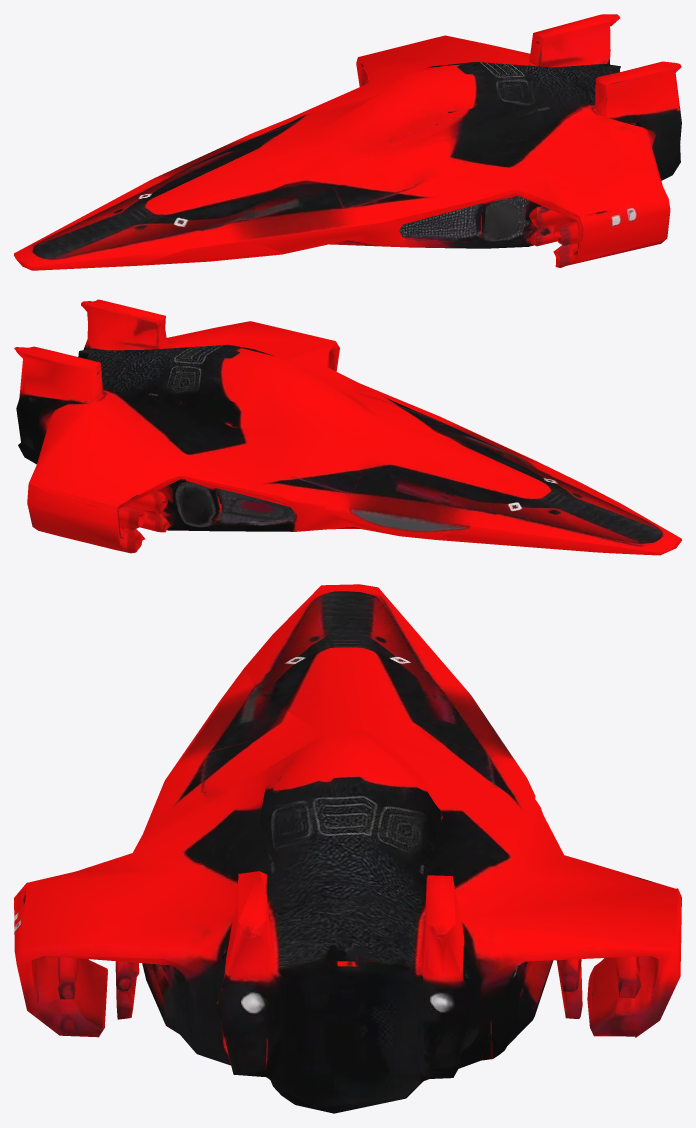
Rendered from ship12.glb.
3 views of the same model, one above another, from view 1: azimuth 30°, elevation 25°; view 2: azimuth 150°, elevation 25°; view 3: azimuth 270°, elevation 25° (orthographic). The views are drawn at different scales.
Parts seen in each view (by area): view 1: Mesh0; view 2: Mesh0; view 3: Mesh0.
Part boxes in pixels (x1,y1,x2,y2): Mesh0: (14, 14, 681, 270); Mesh0: (14, 299, 681, 555); Mesh0: (14, 584, 681, 1113).
Bounding box in the file's own units: 1.91 × 0.4847 × 1.19.
Materials: 1 (1 with a texture image).
